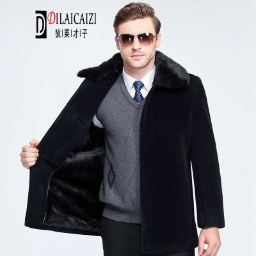face: (113, 2, 162, 69)
